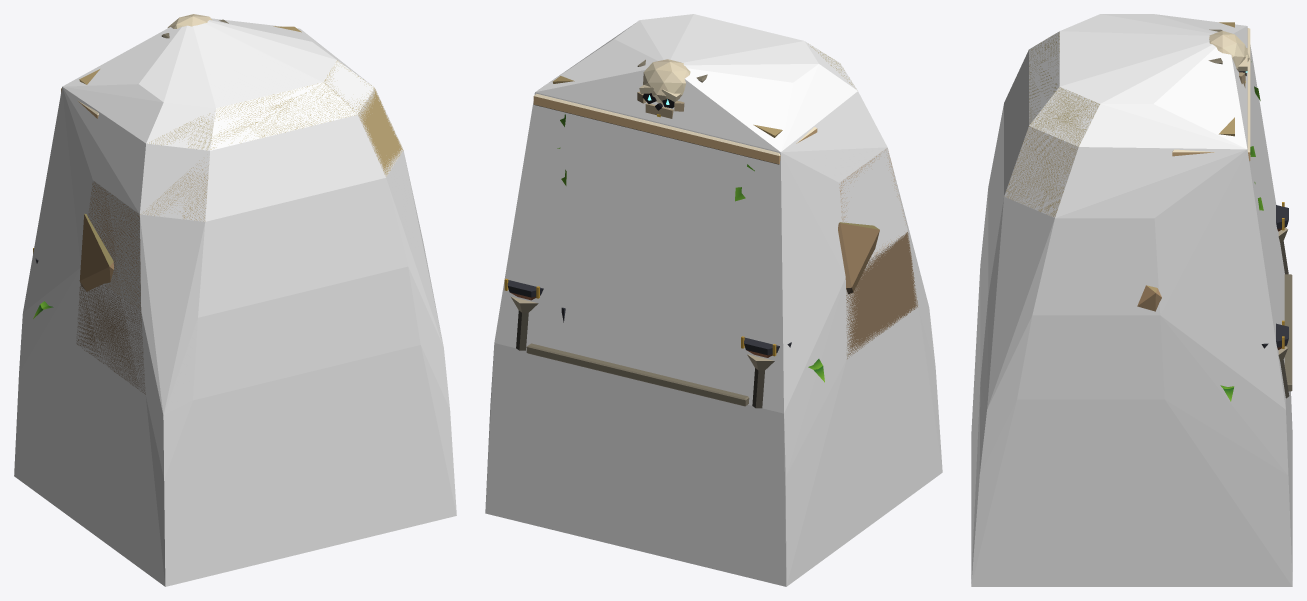
Rendered from pirate_treasure_vault_door.glb.
3 views of the same model, side by side, from view 1: azimuth 30°, elevation 25°; view 2: azimuth 150°, elevation 25°; view 3: azimuth 270°, elevation 25° (orthographic). The views are drawn at different scales.
Visible parts, largest first — view 1: col_vault_frame, PirateTreasureVaultDoor; view 2: col_vault_frame, PirateTreasureVaultDoor; view 3: col_vault_frame, PirateTreasureVaultDoor.
Boxes of the visible parts, x1,y1,x2,y2 form: col_vault_frame: (14, 18, 456, 586); PirateTreasureVaultDoor: (33, 14, 403, 394); col_vault_frame: (485, 14, 942, 586); PirateTreasureVaultDoor: (504, 46, 917, 408); col_vault_frame: (971, 14, 1292, 586); PirateTreasureVaultDoor: (1004, 22, 1292, 401).
Bounding box in the file's own units: 6.63 × 9.29 × 5.68.
